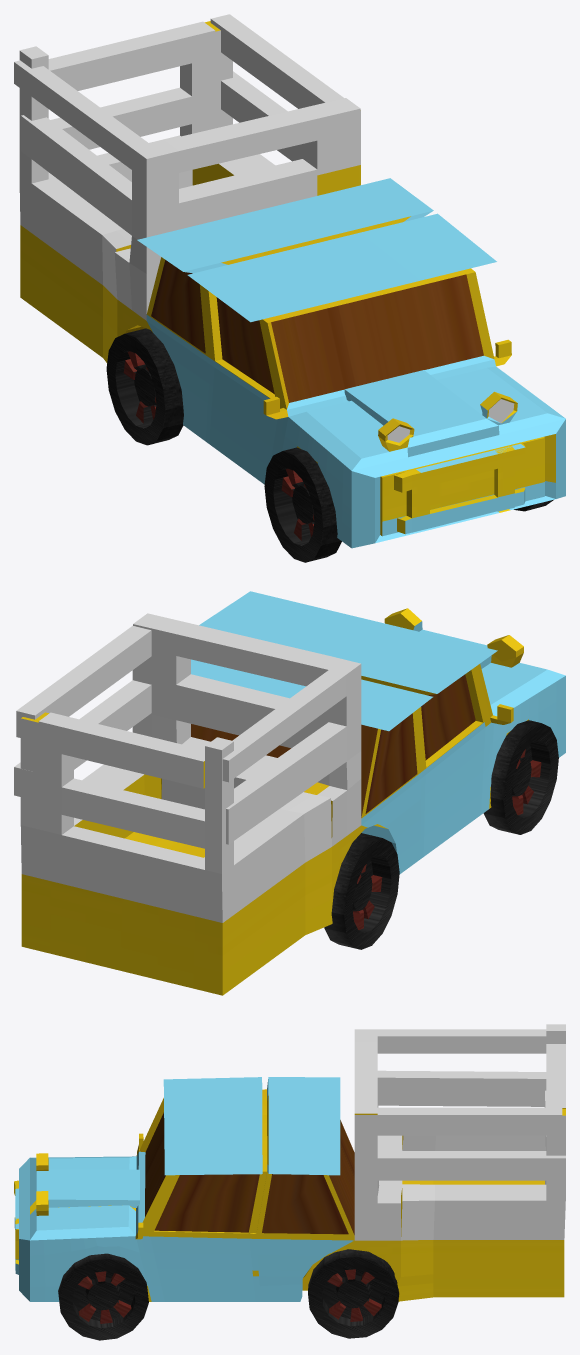
File: car1.fbx
3 renders of one model, top to bottom at view 1: azimuth 30°, elevation 25°; view 2: azimuth 150°, elevation 25°; view 3: azimuth 270°, elevation 25°, orthographic. The views are drawn at different scales.
Visible parts, largest first — view 1: Cylinder.014; view 2: Cylinder.014; view 3: Cylinder.014.
Boxes of the visible parts, bbox=[...] form: Cylinder.014: bbox=[14, 14, 565, 562]; Cylinder.014: bbox=[14, 591, 565, 995]; Cylinder.014: bbox=[14, 1024, 565, 1340].
Bounding box in the file's own units: 22.67 × 24.94 × 53.97.
